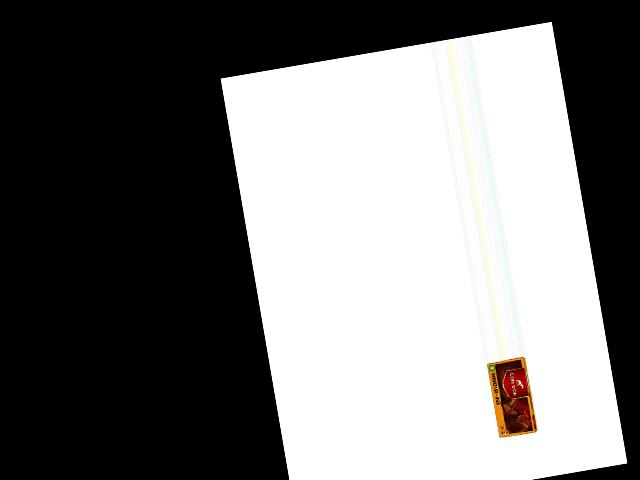chocolate: (480, 356, 539, 441)
